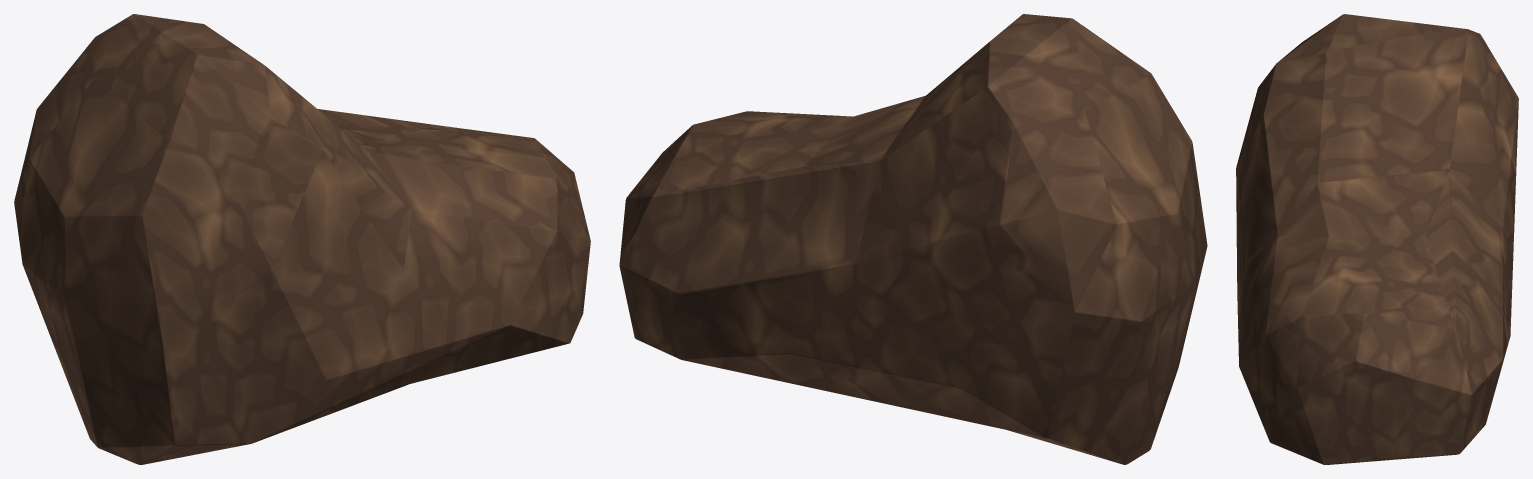
File: WideRock.fbx
3 views of the same model, side by side, from view 1: azimuth 30°, elevation 25°; view 2: azimuth 150°, elevation 25°; view 3: azimuth 270°, elevation 25° (orthographic). The views are drawn at different scales.
Visible parts, largest first — view 1: WideRock; view 2: WideRock; view 3: WideRock.
Part boxes in pixels (left/top/right/bottom): WideRock: left=14, top=14, right=590, bottom=464; WideRock: left=619, top=14, right=1207, bottom=464; WideRock: left=1236, top=14, right=1518, bottom=464.
Size of the model in its own units: 10.45 by 7.69 by 5.83.
